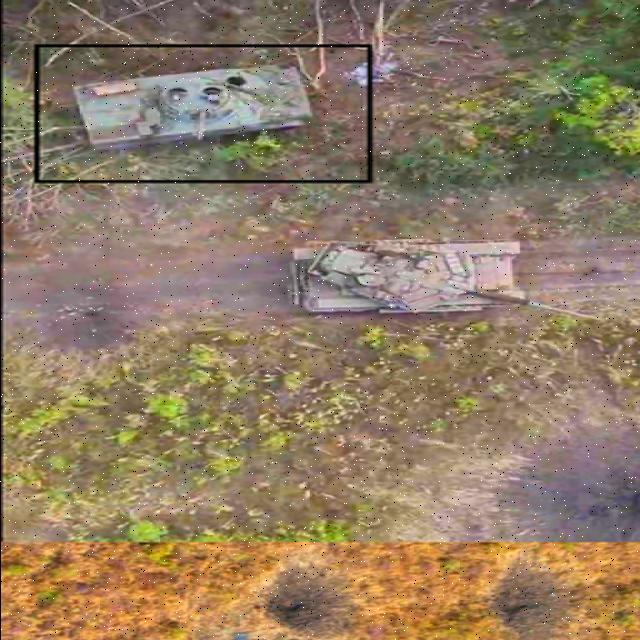APC-IFV: (63, 54, 324, 152)
TANK: (280, 232, 606, 328)
